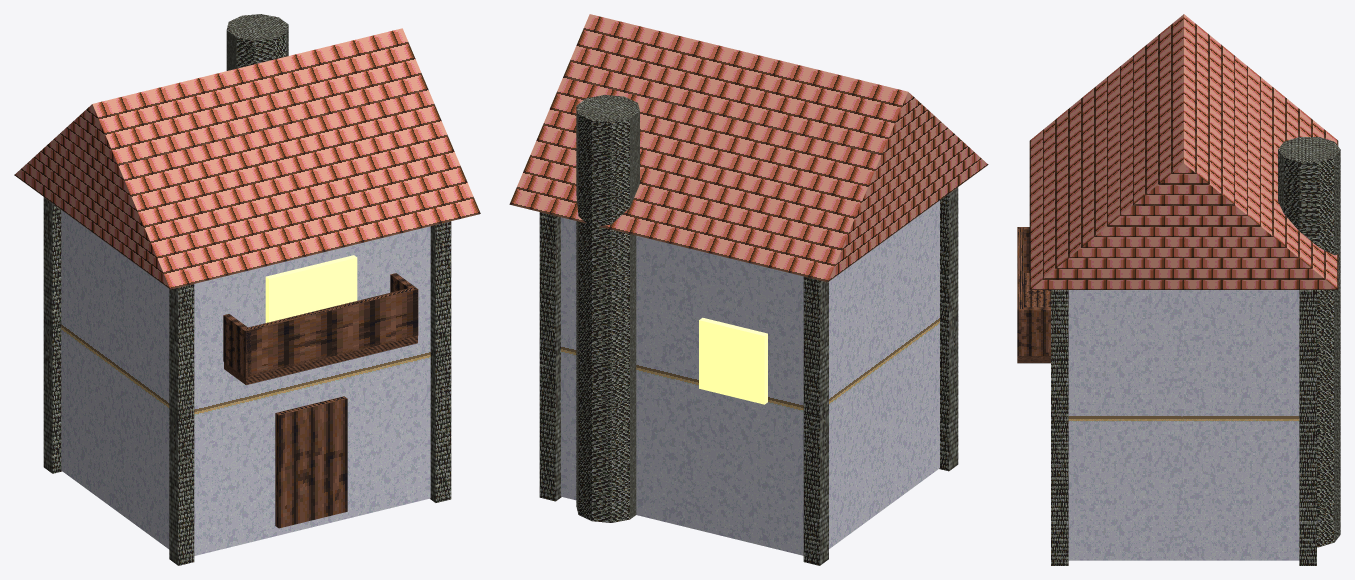
Rendered from casa_escriba.glb.
3 renders of one model, left to right at view 1: azimuth 30°, elevation 25°; view 2: azimuth 150°, elevation 25°; view 3: azimuth 270°, elevation 25°, orthographic. The views are drawn at different scales.
Visible parts, largest first — view 1: Escriba_Techo, Cube, Cube.006, Cube.010, Cube.001, Cube.003, Cube.002, Cube.009, Cylinder, Cube.005, Cube.007; view 2: Cube, Escriba_Techo, Cylinder, Cube.002, Cube.004, Cube.001, Cube.011; view 3: Cube, Escriba_Techo, Cylinder, Cube.003, Cube.004, Cube.008, Cube.005, Cube.006.
Boxes of the visible parts, x1=… form: Escriba_Techo: x1=14, y1=28, x2=480, y2=289; Cube: x1=61, y1=210, x2=430, y2=555; Cube.006: x1=243, y1=287, x2=417, y2=376; Cube.010: x1=275, y1=396, x2=347, y2=528; Cube.001: x1=169, y1=284, x2=194, y2=565; Cube.003: x1=430, y1=221, x2=451, y2=502; Cube.002: x1=43, y1=197, x2=61, y2=473; Cube.009: x1=265, y1=255, x2=357, y2=322; Cylinder: x1=226, y1=14, x2=288, y2=70; Cube.005: x1=224, y1=333, x2=417, y2=384; Cube.007: x1=223, y1=314, x2=251, y2=377; Cube: x1=561, y1=200, x2=939, y2=555; Escriba_Techo: x1=509, y1=14, x2=988, y2=282; Cylinder: x1=576, y1=95, x2=639, y2=522; Cube.002: x1=803, y1=276, x2=828, y2=565; Cube.004: x1=539, y1=212, x2=561, y2=501; Cube.001: x1=939, y1=187, x2=958, y2=471; Cube.011: x1=699, y1=317, x2=767, y2=404; Cube: x1=1068, y1=290, x2=1299, y2=560; Escriba_Techo: x1=1029, y1=14, x2=1338, y2=289; Cylinder: x1=1278, y1=137, x2=1340, y2=547; Cube.003: x1=1051, y1=290, x2=1068, y2=565; Cube.004: x1=1299, y1=290, x2=1316, y2=565; Cube.008: x1=1017, y1=307, x2=1050, y2=355; Cube.005: x1=1017, y1=273, x2=1050, y2=363; Cube.006: x1=1017, y1=227, x2=1023, y2=309.
Bounding box in the file's own units: 3.16 × 4.06 × 2.89.
Materials: 5 (4 with a texture image).
